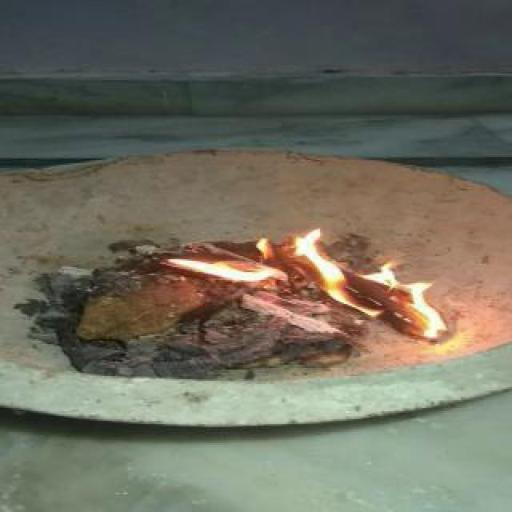smoke: (164, 226, 458, 338)
